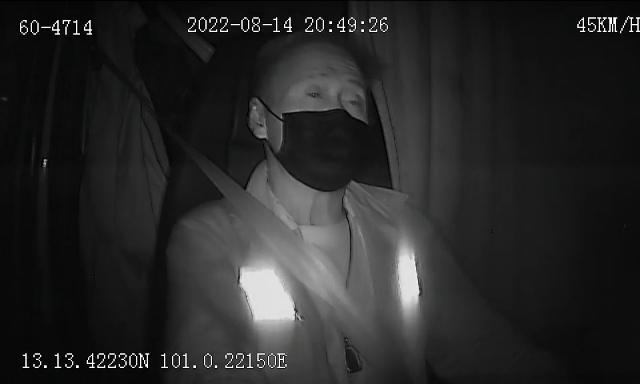Seatbelt: (176, 138, 372, 384)
